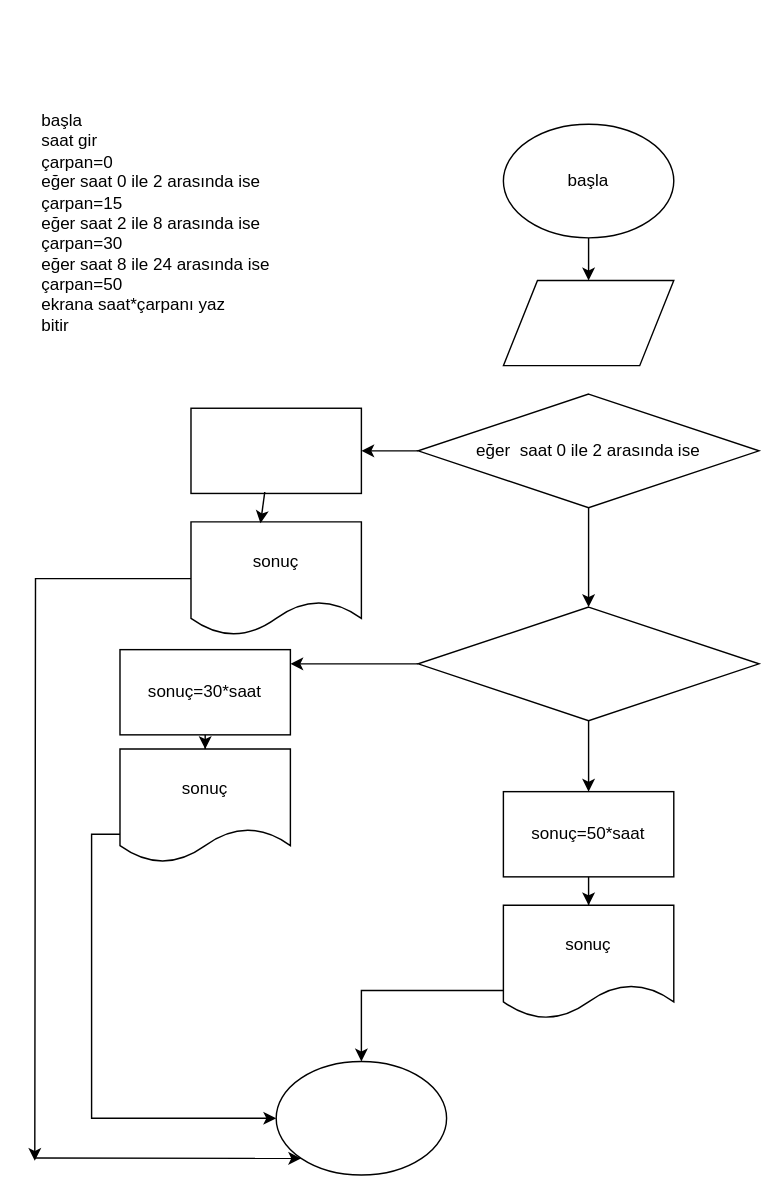
Some shapes in this 784 by 1200 pixel diagram are drawn without their labels. The box of each missing label's shape, as (x1, y1, x2, y2) in pixels:
bitiş: (275, 1060, 447, 1175)
eğer saat 2 ile 8 arasında ise: (417, 606, 759, 721)
saat gir çarpan=0: (502, 279, 674, 366)
sonuç=15*saat: (190, 407, 361, 493)
